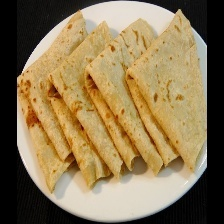roti: (17, 5, 206, 191)
